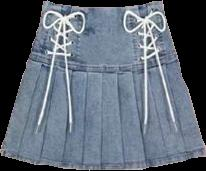Hemline: (0, 150, 205, 169)
Waistline: (28, 55, 177, 73), (43, 0, 163, 8)
